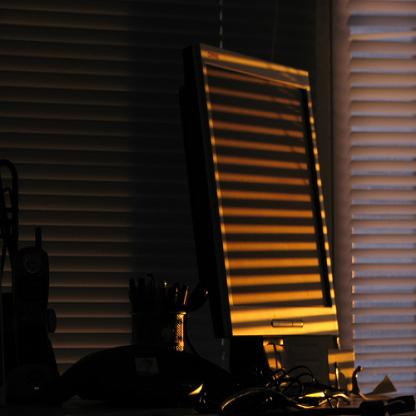tvmonitor: (192, 40, 341, 337)
